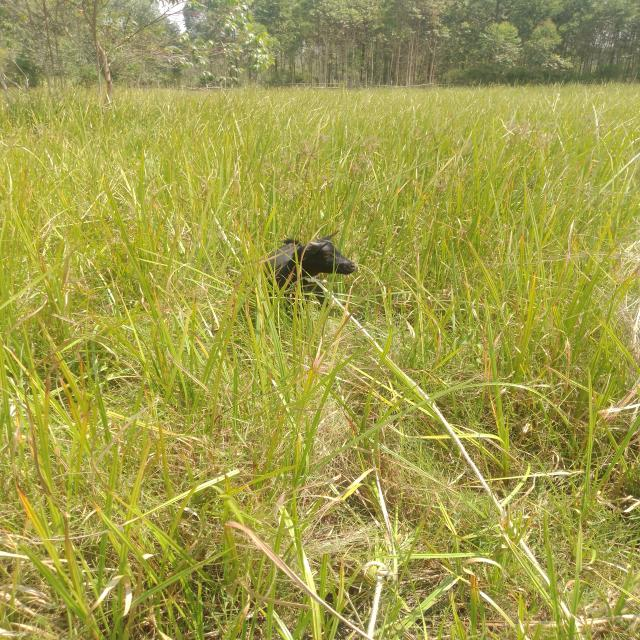goat: (236, 218, 381, 321)
